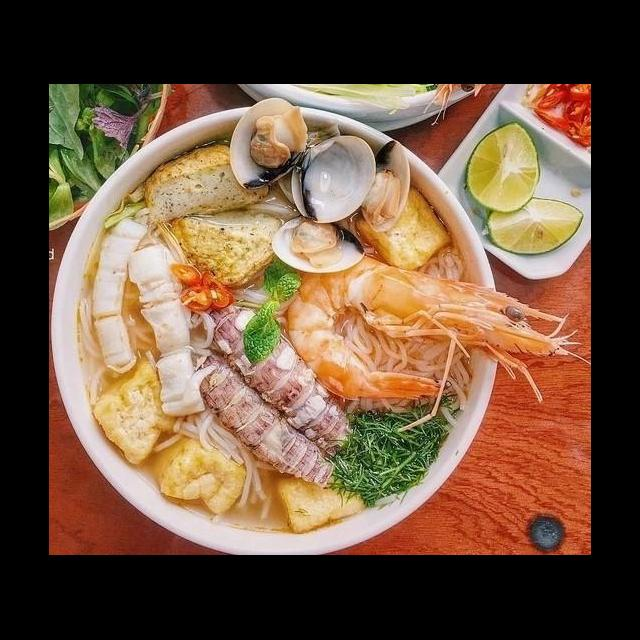bun: (333, 312, 474, 432), (169, 406, 284, 526)
bun hai san: (52, 119, 559, 556)
dau hu: (89, 352, 184, 469), (354, 184, 455, 278), (150, 436, 251, 518), (274, 464, 370, 536)
muc: (120, 240, 213, 420), (89, 210, 149, 378)
tom: (283, 251, 583, 414)
tom tit: (197, 292, 361, 462), (186, 346, 349, 492)
